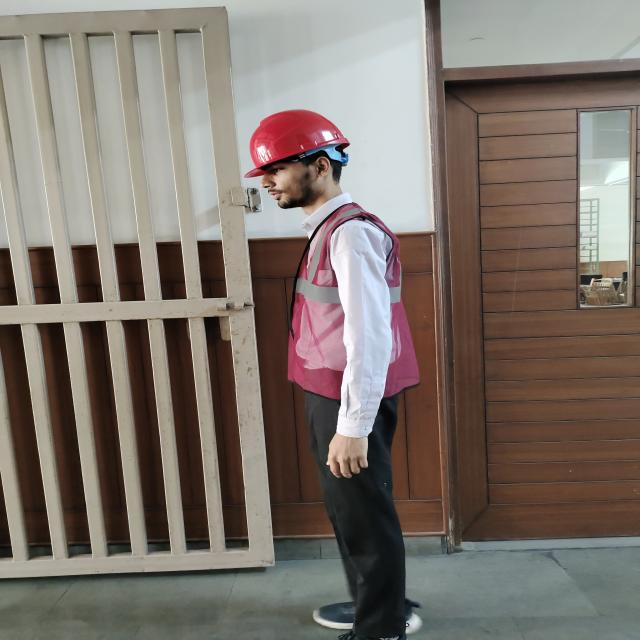safe: (244, 110, 426, 640)
